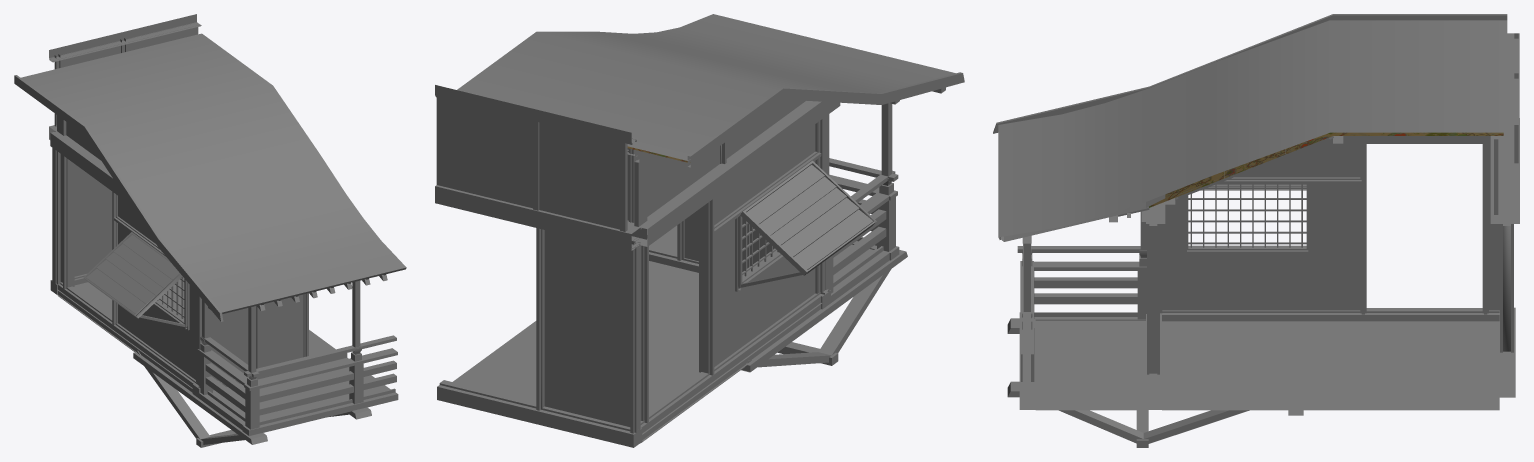
File: FL4_Balcony_Corner_1.fbx
The picture shows the model from 3 angles, left to right: view 1: azimuth 30°, elevation 25°; view 2: azimuth 150°, elevation 25°; view 3: azimuth 270°, elevation 25°; orthographic projection. The views are drawn at different scales.
Visible parts, largest first — view 1: FL4_Balcony_Corner_1; view 2: FL4_Balcony_Corner_1; view 3: FL4_Balcony_Corner_1.
Boxes of the visible parts, x1,y1,x2,y2 form: FL4_Balcony_Corner_1: [14, 14, 406, 447]; FL4_Balcony_Corner_1: [435, 14, 964, 447]; FL4_Balcony_Corner_1: [993, 14, 1519, 447].
Bounding box in the file's own units: 346 × 477 × 644.
